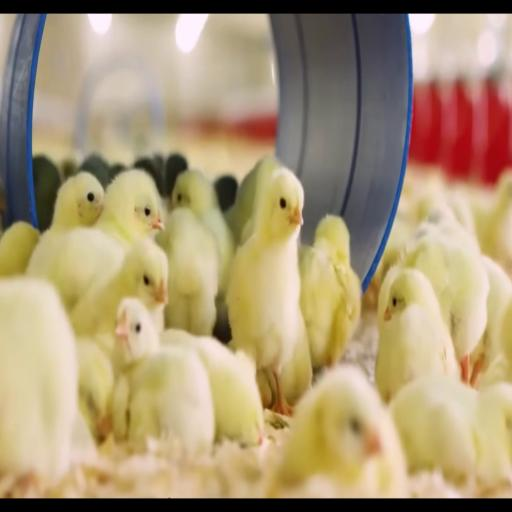chick: (27, 170, 163, 311), (227, 168, 304, 415), (274, 366, 406, 497), (0, 277, 78, 481), (113, 300, 214, 452), (401, 231, 489, 383), (390, 376, 511, 486), (161, 330, 263, 446), (71, 238, 168, 355), (375, 269, 459, 402), (172, 170, 236, 325), (300, 216, 361, 369), (26, 229, 125, 312), (172, 170, 235, 300), (162, 208, 218, 335), (96, 170, 164, 248), (471, 256, 511, 384), (225, 156, 281, 244), (364, 214, 414, 307), (472, 172, 511, 269), (77, 339, 114, 441), (112, 297, 160, 374), (50, 172, 104, 230), (415, 204, 479, 252), (281, 319, 313, 406), (281, 318, 312, 406), (0, 222, 40, 277), (33, 155, 61, 232), (71, 407, 98, 465), (164, 154, 188, 209), (447, 190, 475, 236), (133, 157, 164, 196), (79, 154, 110, 188), (499, 299, 511, 381), (214, 174, 238, 212), (60, 157, 78, 181), (110, 163, 126, 182)
